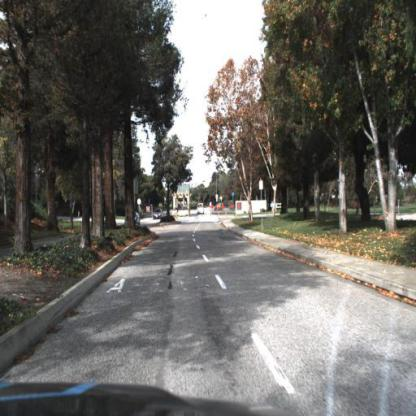biker: (173, 203, 181, 222)
car: (197, 202, 206, 216), (134, 214, 143, 226), (154, 208, 163, 220)
